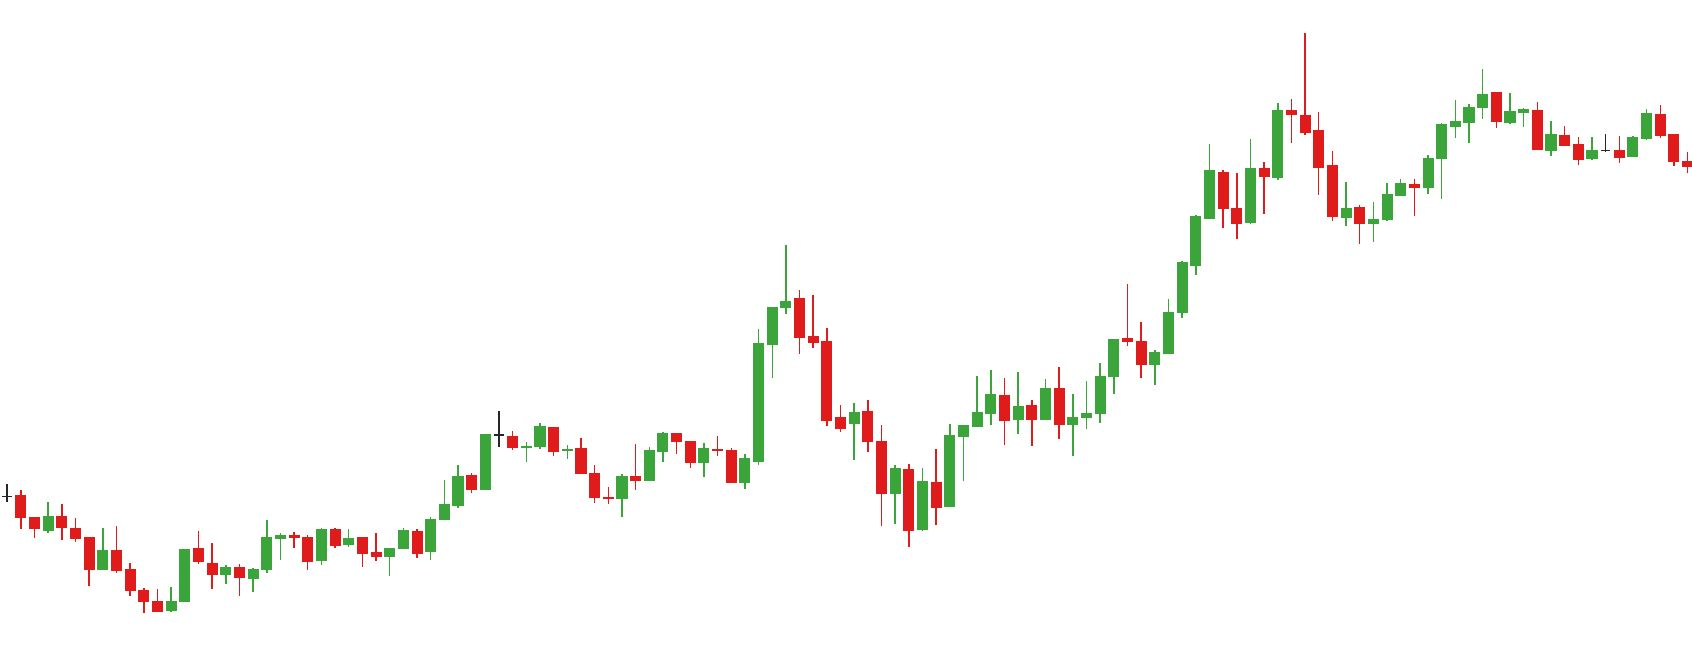buy: (1258, 133, 1353, 232), (996, 386, 1081, 460)
